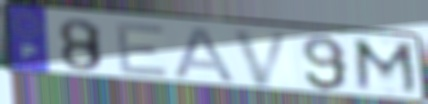8: (56, 17, 106, 73)
9: (300, 33, 351, 93)
A: (171, 25, 239, 85)
E: (113, 21, 171, 79)
M: (350, 36, 423, 99)
V: (230, 28, 294, 88)
